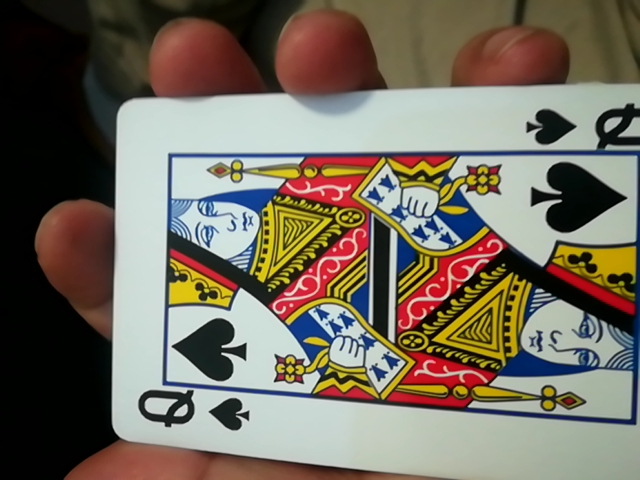ht q: (96, 82, 636, 478)
